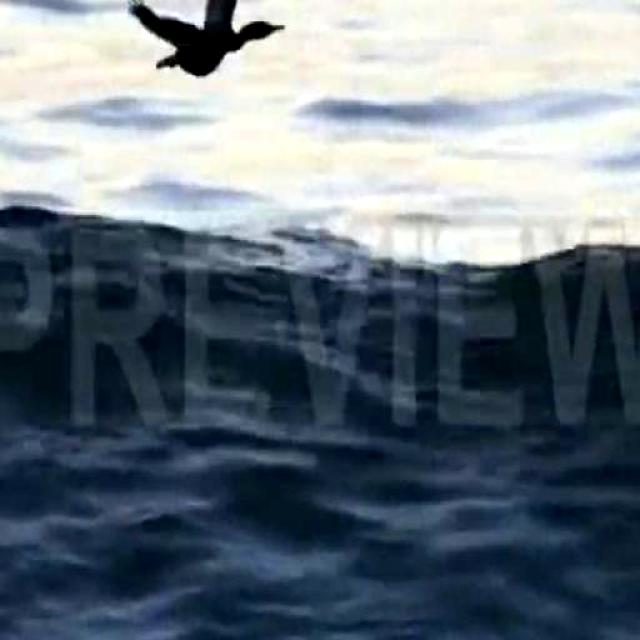airplane: (129, 0, 286, 109)
